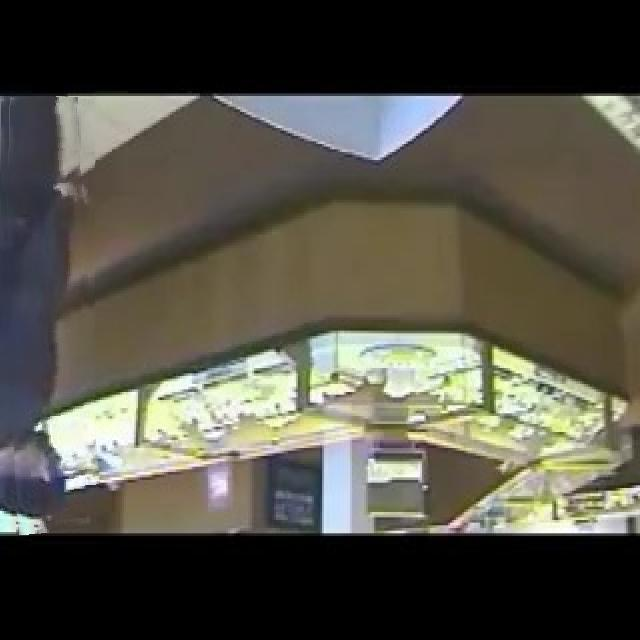normal: (0, 97, 95, 534)
